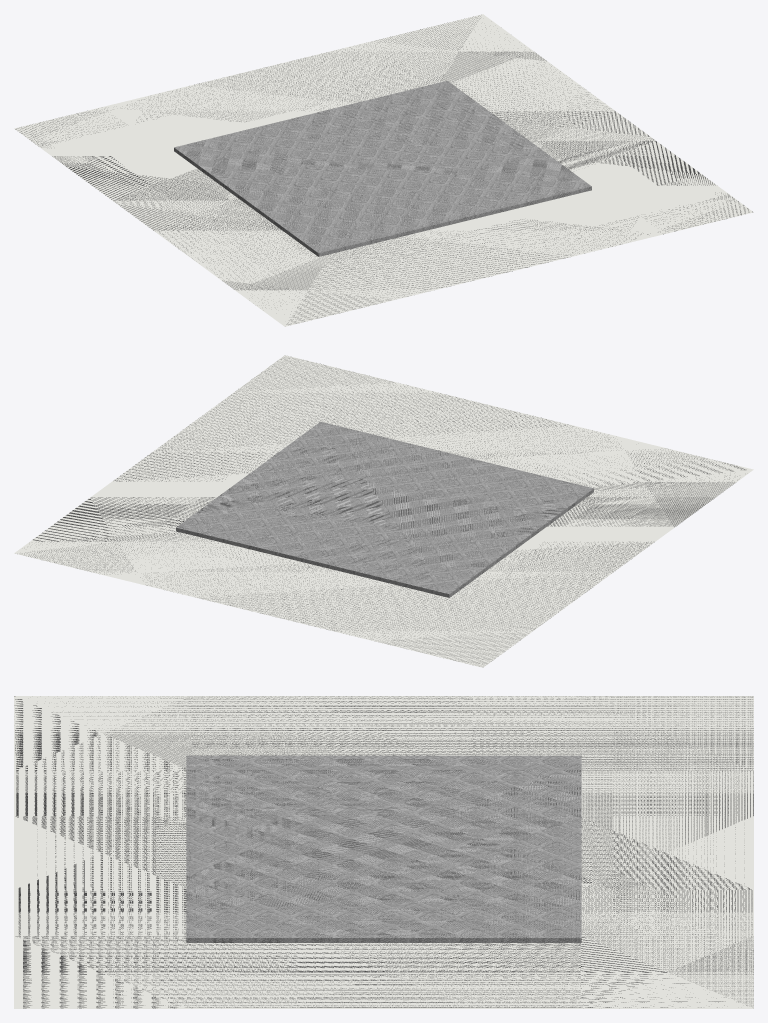
Rendered from floor2.glb.
3 views of the same model, one above another, from view 1: azimuth 30°, elevation 25°; view 2: azimuth 150°, elevation 25°; view 3: azimuth 270°, elevation 25° (orthographic). The views are drawn at different scales.
Parts seen in each view (by area): view 1: SketchUp, instance_0; view 2: SketchUp, instance_0; view 3: SketchUp, instance_0.
Boxes of the visible parts, bbox=[...] form: SketchUp: bbox=[14, 14, 753, 326]; instance_0: bbox=[174, 80, 591, 256]; SketchUp: bbox=[14, 355, 753, 667]; instance_0: bbox=[176, 421, 593, 597]; SketchUp: bbox=[14, 696, 753, 1008]; instance_0: bbox=[186, 755, 581, 942].
Size of the model in its own units: 4.57 by 0.0349 by 4.57.
Materials: 4 (3 with a texture image).
